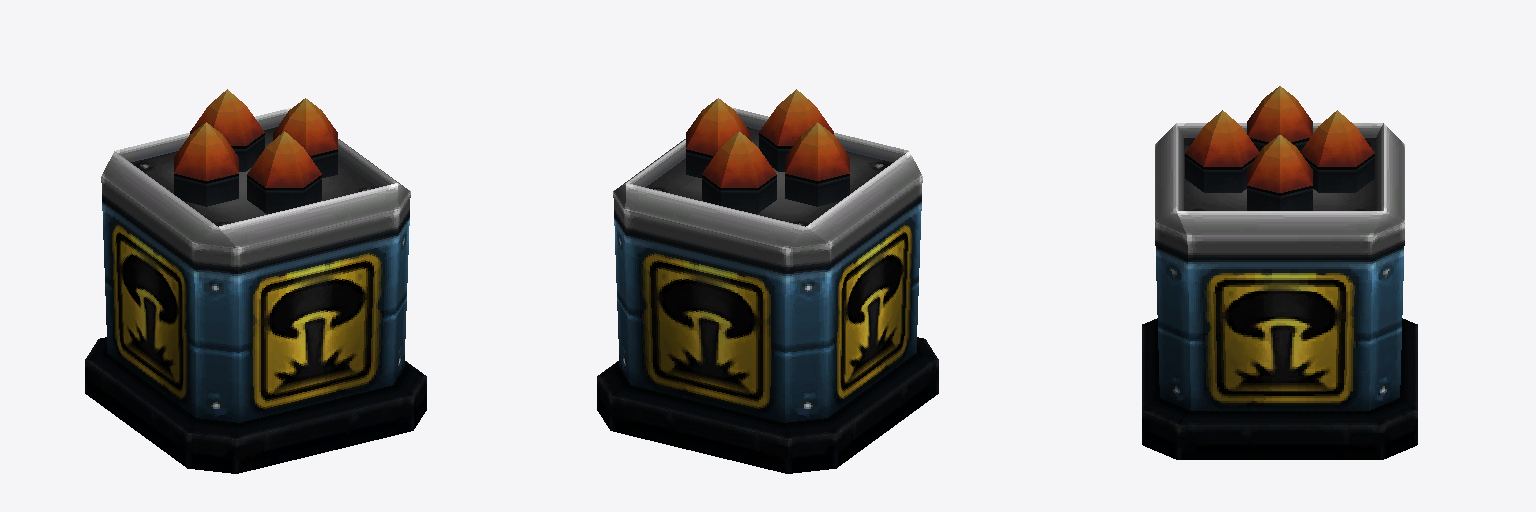
3 views of the same model, side by side, from view 1: azimuth 30°, elevation 25°; view 2: azimuth 150°, elevation 25°; view 3: azimuth 270°, elevation 25° (orthographic).
Parts seen in each view (by area): view 1: Mesh01, default; view 2: Mesh01, default; view 3: Mesh01, default.
Boxes of the visible parts, x1,y1,x2,y2 form: Mesh01: [101, 107, 410, 422]; default: [85, 89, 426, 473]; Mesh01: [613, 107, 922, 422]; default: [597, 89, 938, 473]; Mesh01: [1155, 123, 1404, 410]; default: [1142, 86, 1417, 459].
Bounding box in the file's own units: 20.57 × 24 × 20.57.
Materials: 2 (2 with a texture image).